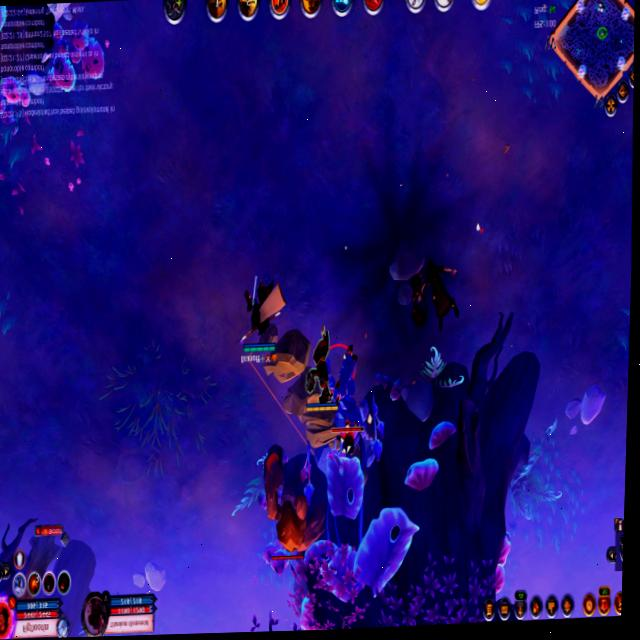ore: (257, 440, 334, 568), (328, 334, 368, 459)
red: (239, 271, 295, 367), (299, 324, 340, 422)
silver: (239, 311, 350, 461)
